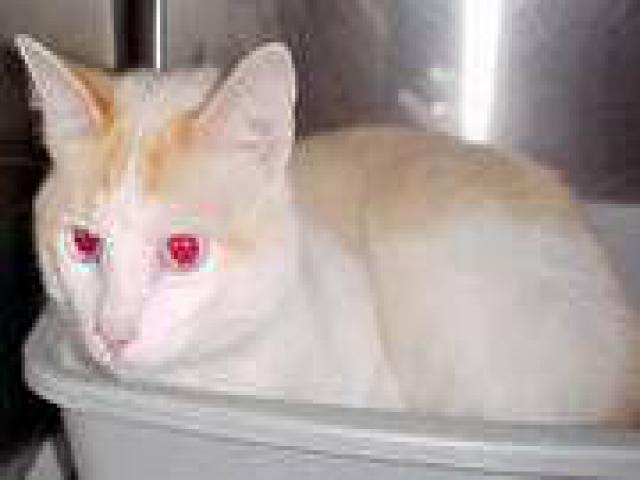cat: (8, 22, 638, 430)
